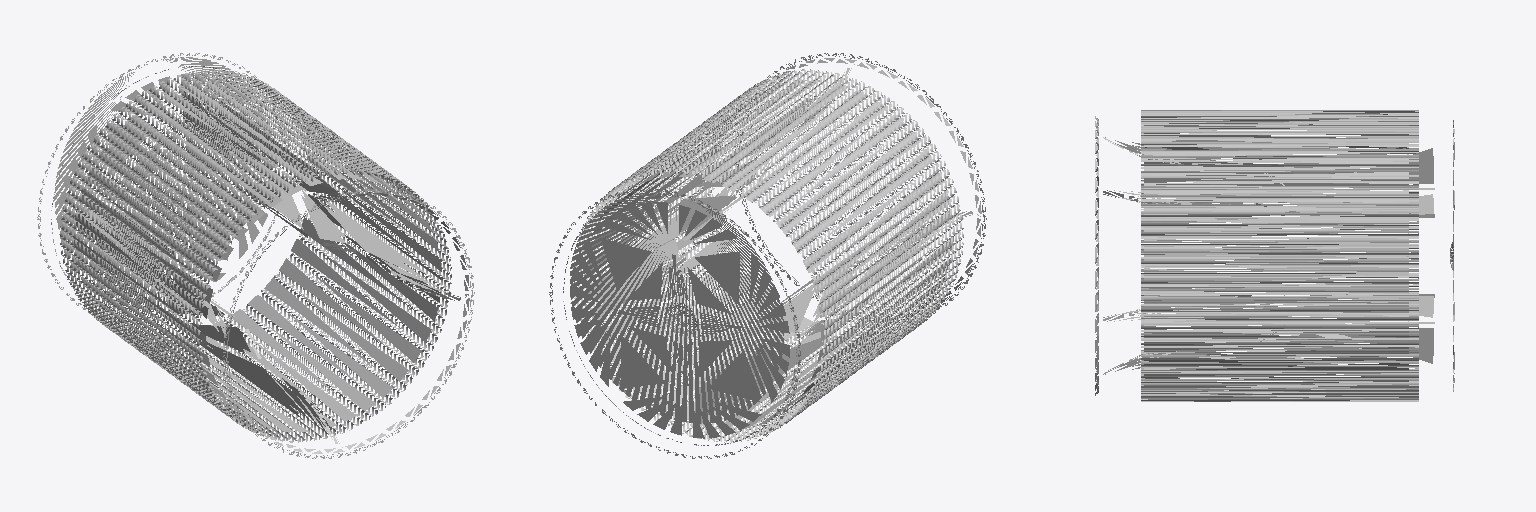
Rendered from TallBottleCap.obj.
3 views of the same model, side by side, from view 1: azimuth 30°, elevation 25°; view 2: azimuth 150°, elevation 25°; view 3: azimuth 270°, elevation 25° (orthographic).
Visible parts, largest first — view 1: bottle_cap_tall; view 2: bottle_cap_tall; view 3: bottle_cap_tall.
Part boxes in pixels (x1,y1,x2,y2): bottle_cap_tall: (37,53,474,458); bottle_cap_tall: (549,53,986,458); bottle_cap_tall: (1095,110,1454,401).
Size of the model in its own units: 0.03 by 0.03 by 0.038.